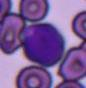L: (23, 23, 65, 66)
